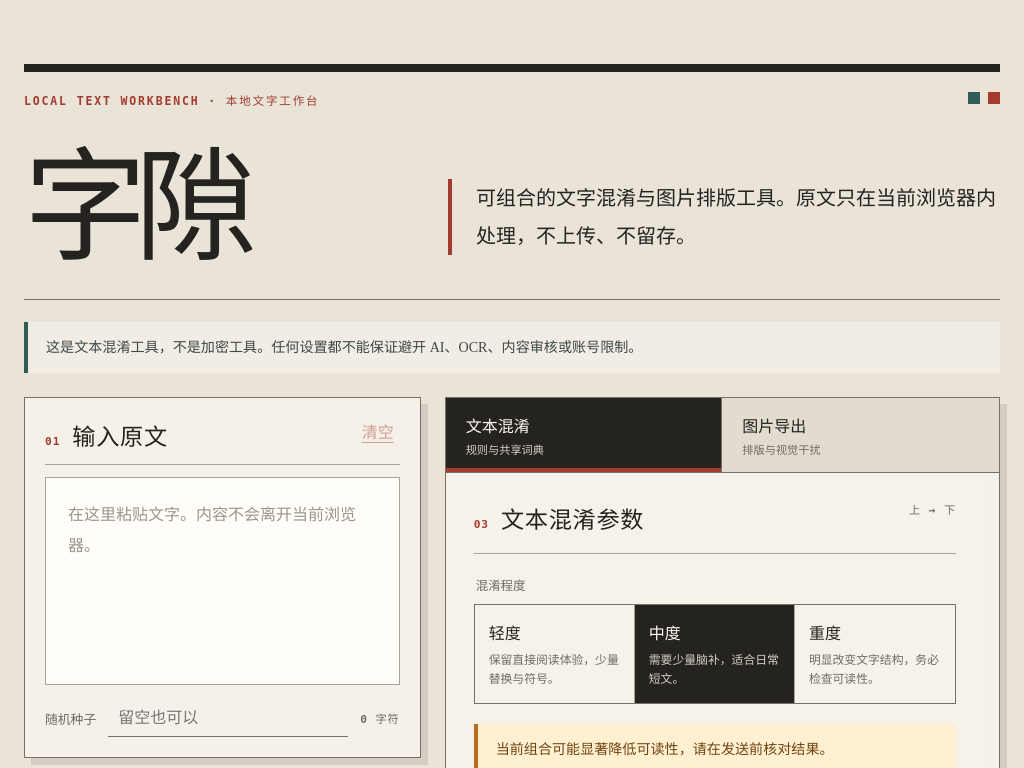
Test: App text workflow › transforms entered text and can clear it
Type "黑龙江商户" into the text box named "输入需要处理的文字" at (222, 581), box [45,477,400,685]
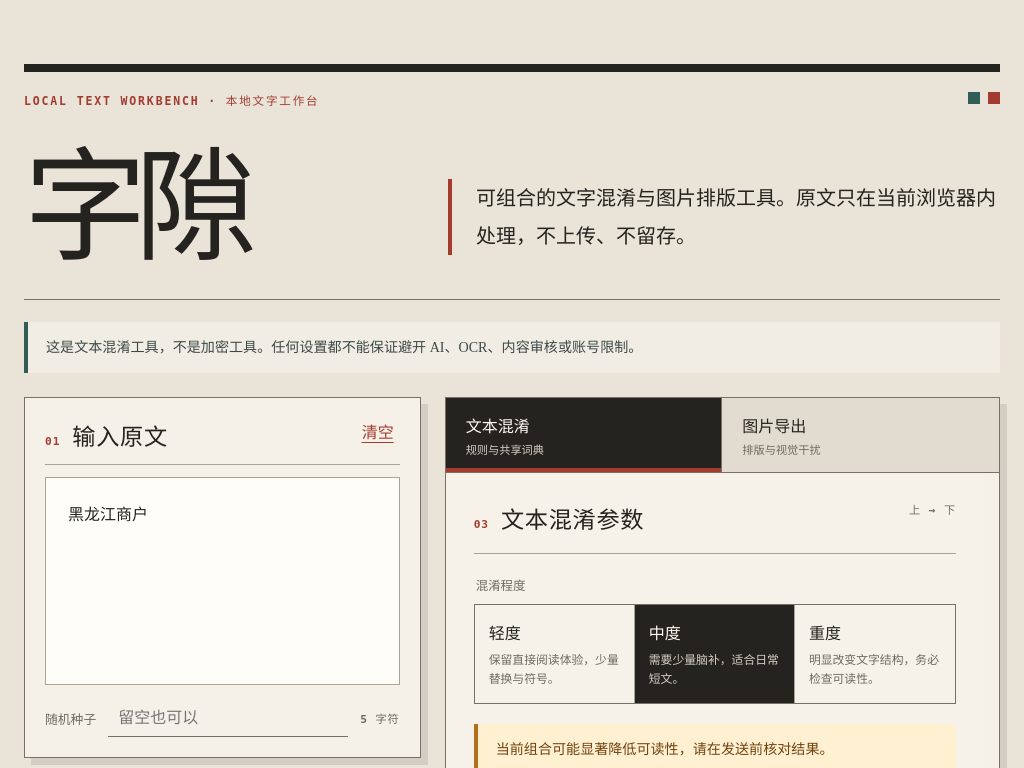
Click the button "清空" at (378, 431), box [356,418,400,444]
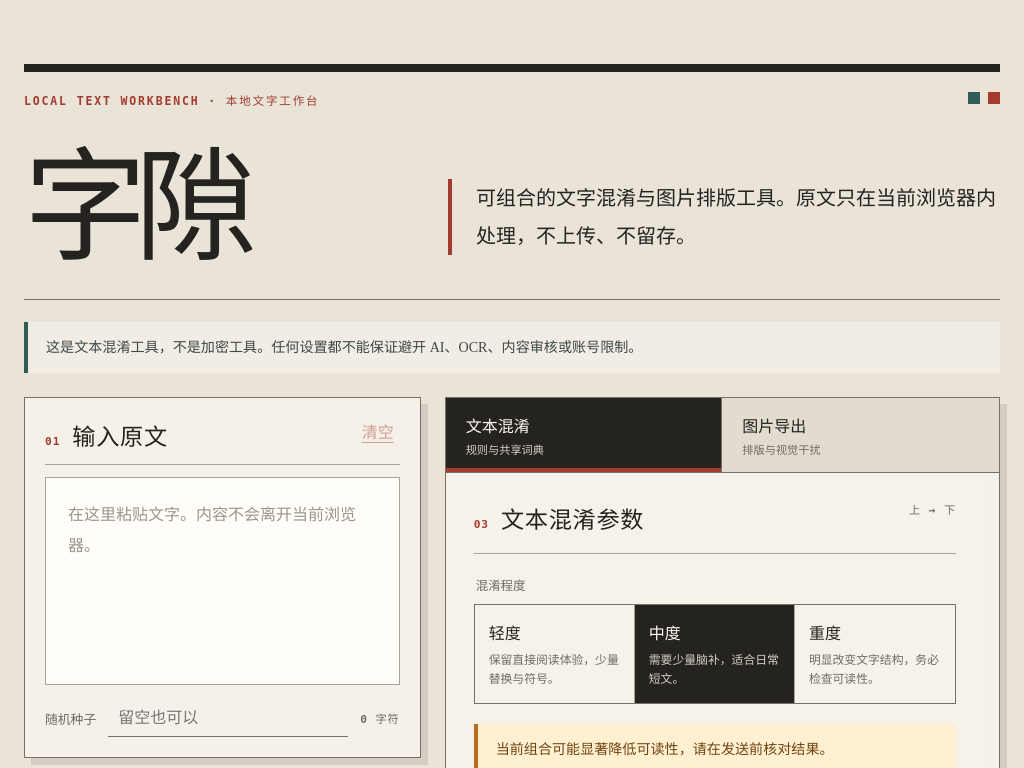
Check: the text box named "输入需要处理的文字" is empty, box [45,477,400,685]
